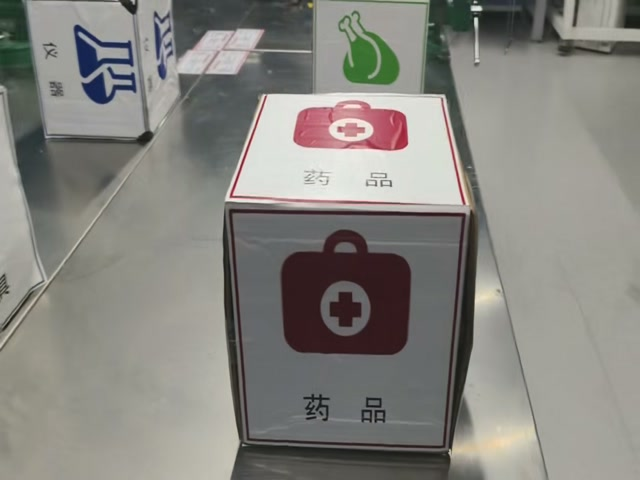Cube_medicine: (226, 94, 472, 211)
